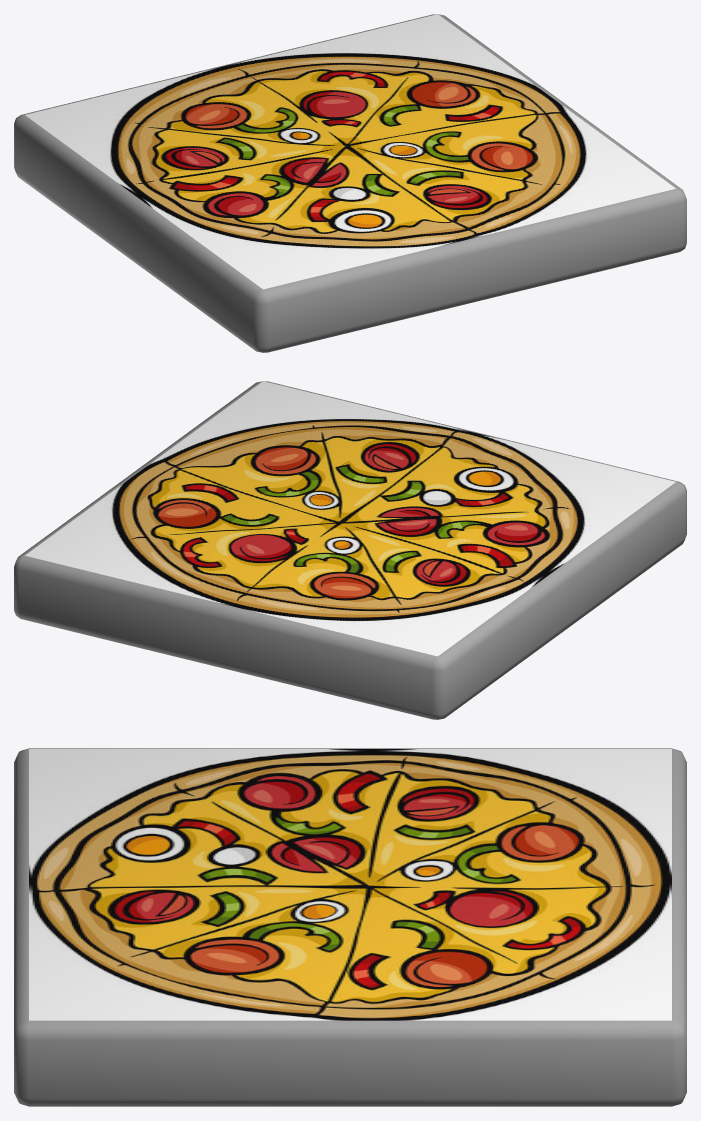
Rendered from Pizza.fbx.
3 renders of one model, top to bottom at view 1: azimuth 30°, elevation 25°; view 2: azimuth 150°, elevation 25°; view 3: azimuth 270°, elevation 25°, orthographic. The views are drawn at different scales.
Visible parts, largest first — view 1: Pizza; view 2: Pizza; view 3: Pizza.
Boxes of the visible parts, x1,y1,x2,y2 form: Pizza: [14, 14, 686, 352]; Pizza: [14, 381, 686, 719]; Pizza: [14, 748, 686, 1106].
Size of the model in its own units: 28.34 by 3.97 by 28.34.
Materials: 2 (1 with a texture image).
